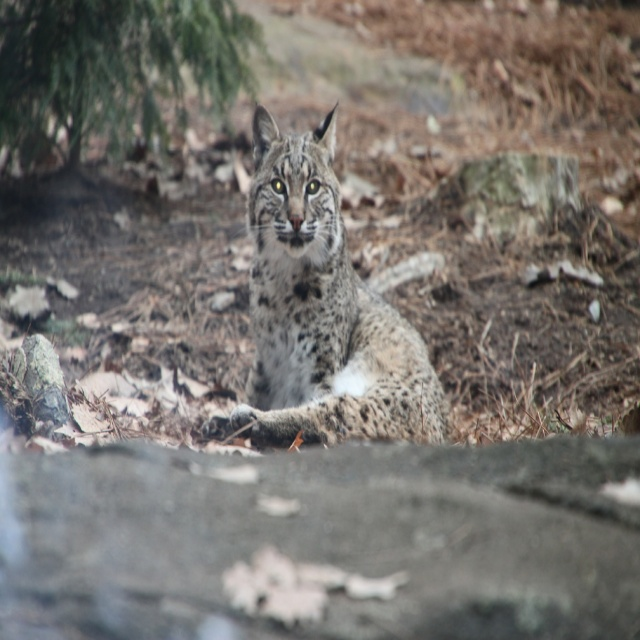Lynx: (202, 99, 449, 448)
